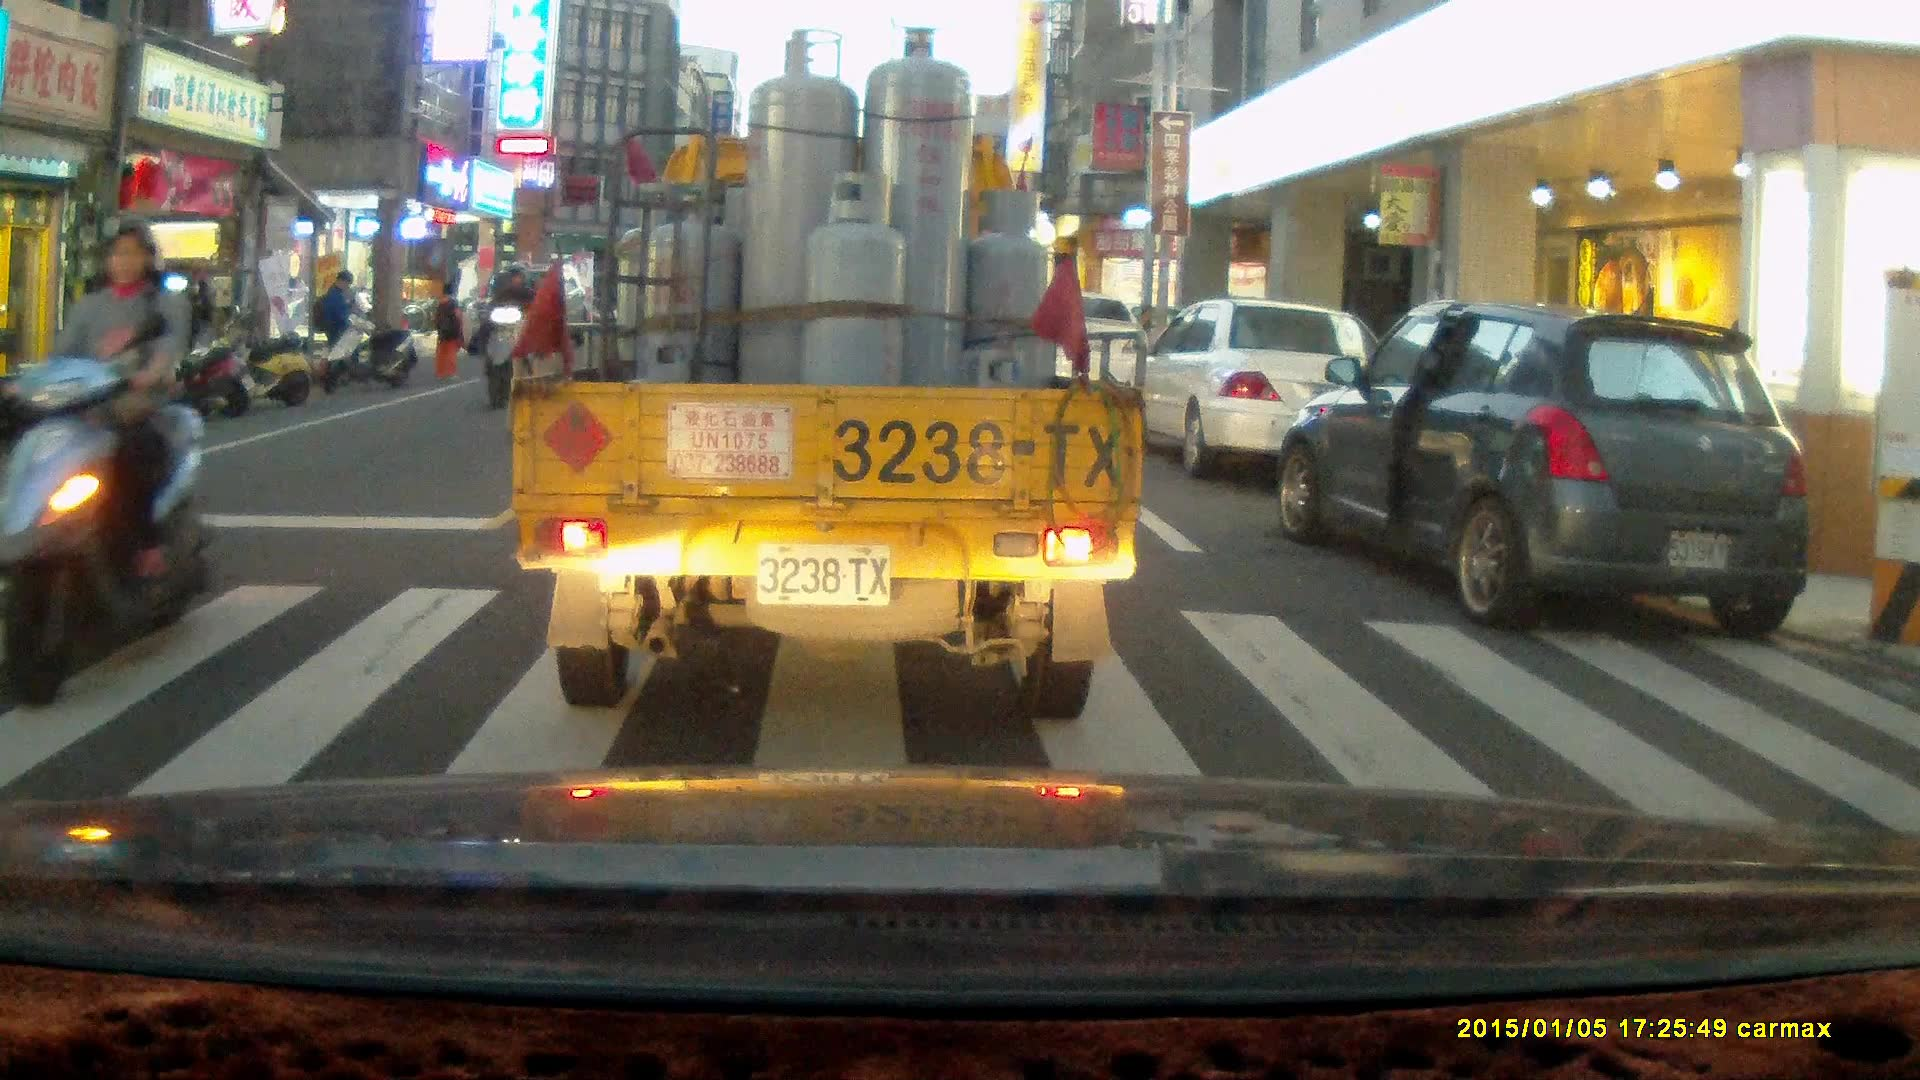pedestrian: (318, 269, 354, 384), (429, 280, 468, 378), (170, 277, 205, 385)
rider: (0, 209, 221, 717), (479, 268, 535, 410)
vehicle: (520, 63, 1134, 717), (1278, 306, 1819, 643), (1124, 300, 1382, 482), (1026, 295, 1160, 413), (461, 269, 585, 363)
